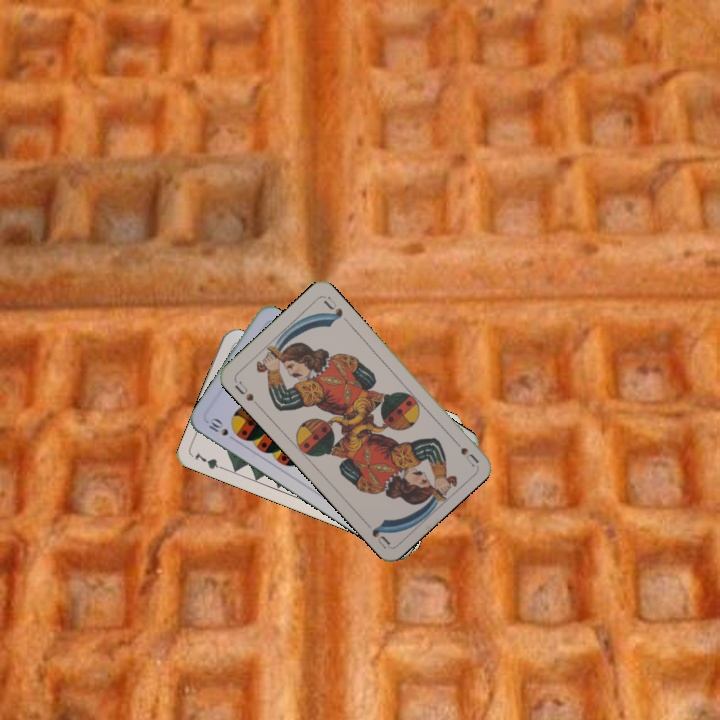G7: (190, 448, 229, 473)
S10: (203, 414, 239, 444)
SU: (447, 433, 480, 468), (231, 377, 262, 409)
